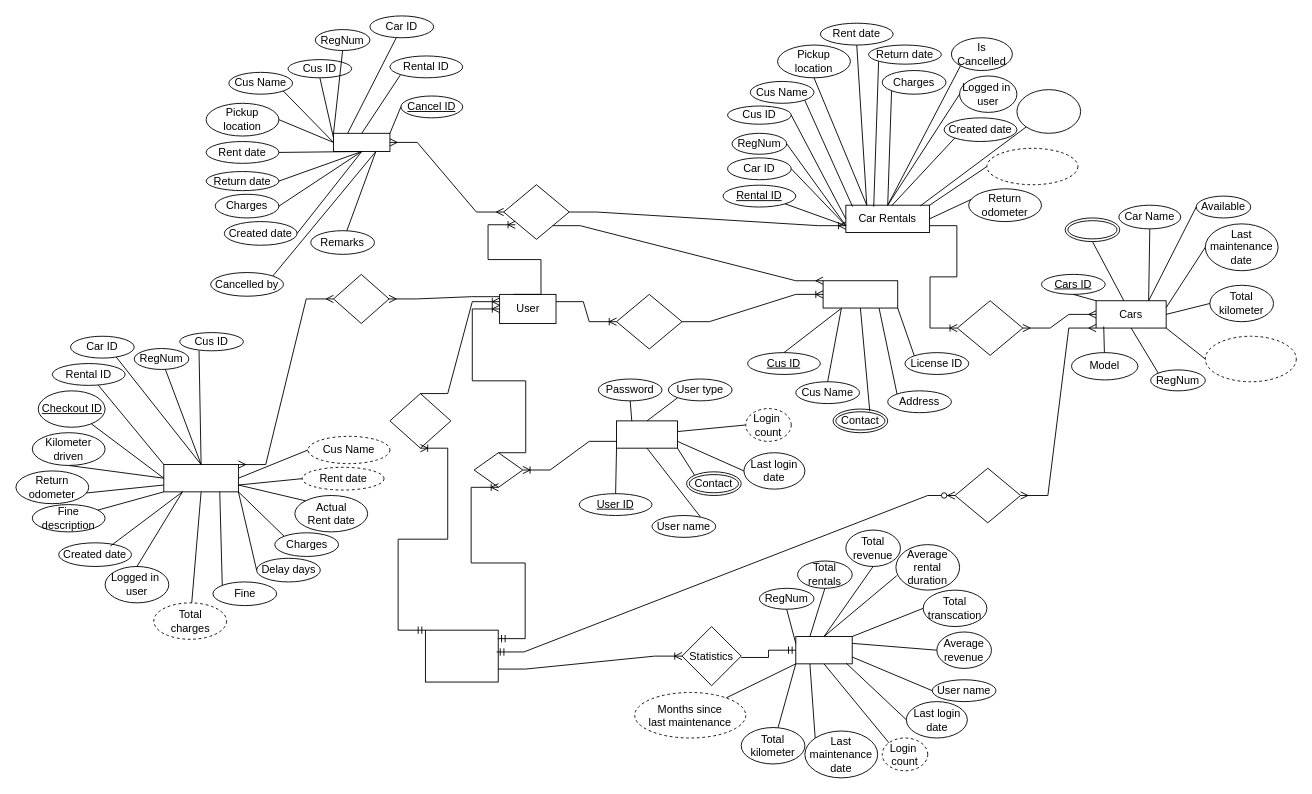
Image size: 1312x794. Some labels were removed from this diagram. The centre of each missing label's shape, as x and y in pixels:
"Adds" belongs at [649,321].
"Admin" belongs at [461,655].
"Assign by" belongs at [420,420].
"Cancel" belongs at [361,142].
"Checkin" belongs at [200,478].
"Checkout odometer" belongs at [1048,111].
"Checks" belongs at [361,298].
"Color" belongs at [1092,229].
"Customers" belongs at [860,294].
"Handles" belongs at [536,211].
"Has" belongs at [498,469].
"Kilometers driven" belongs at [1032,166].
"Last maintenace kilometer" belongs at [1250,358].
"Login" belongs at [646,434].
"Manages" belongs at [987,495].
"Rents" belongs at [989,327].
"Stats" belongs at [823,650].
